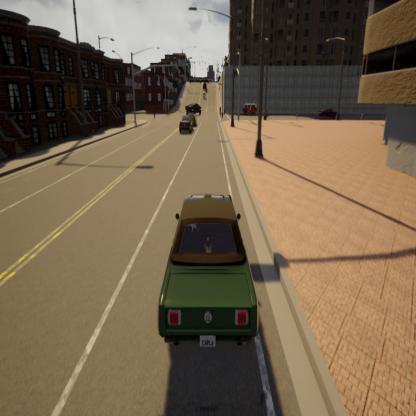Cars: (152, 185, 267, 352), (318, 104, 340, 122), (178, 113, 195, 135), (242, 99, 259, 117), (182, 107, 198, 125), (184, 100, 202, 116)
Pedestrian: (266, 104, 271, 120), (219, 104, 223, 120)
